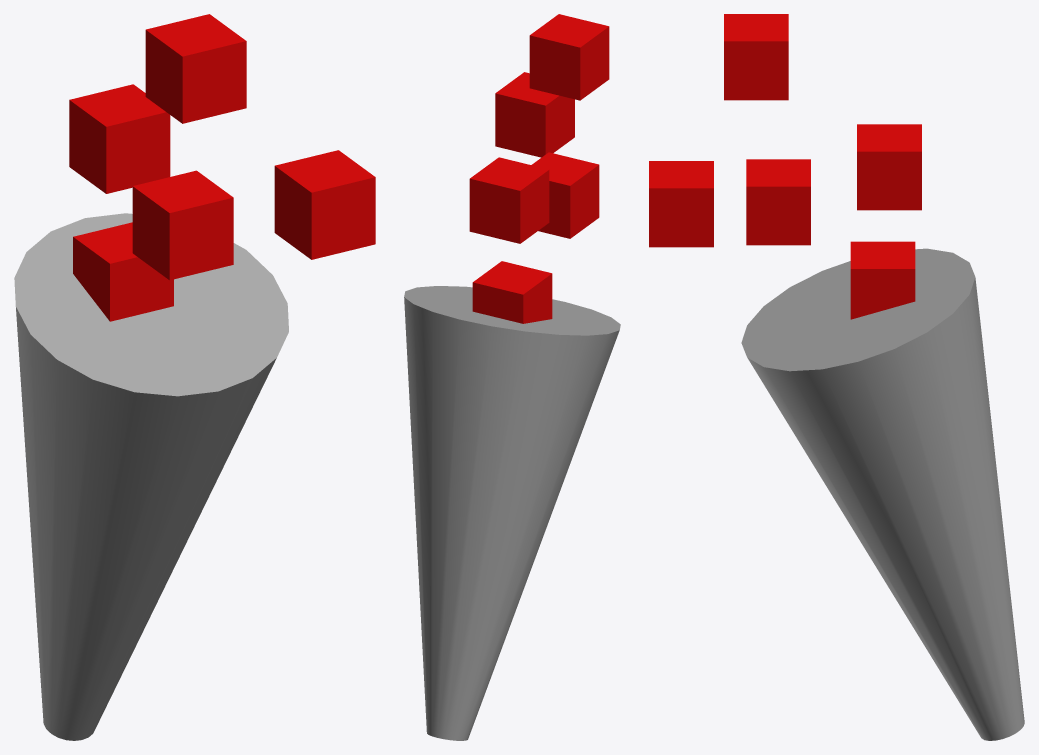
Rendered from Test_emil.fbx.
3 views of the same model, side by side, from view 1: azimuth 30°, elevation 25°; view 2: azimuth 150°, elevation 25°; view 3: azimuth 270°, elevation 25° (orthographic). The views are drawn at different scales.
Parts seen in each view (by area): view 1: torch; view 2: torch; view 3: torch.
Part boxes in pixels (x1,y1,x2,y2): torch: (14,14,375,740); torch: (404,14,620,740); torch: (649,14,1024,740).
Size of the model in its own units: 20.43 by 64.56 by 31.31.
